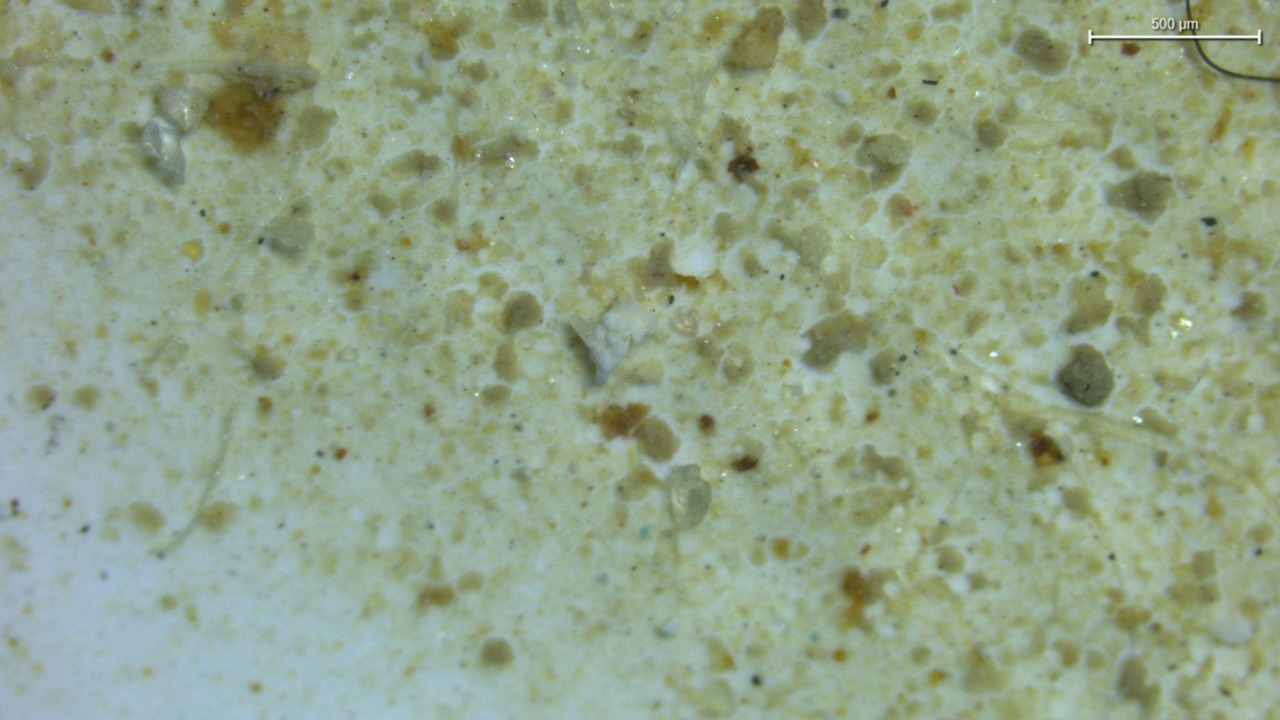microplastic_fragment: (570, 301, 658, 381), (665, 464, 711, 530), (141, 117, 185, 185), (156, 86, 208, 134)
